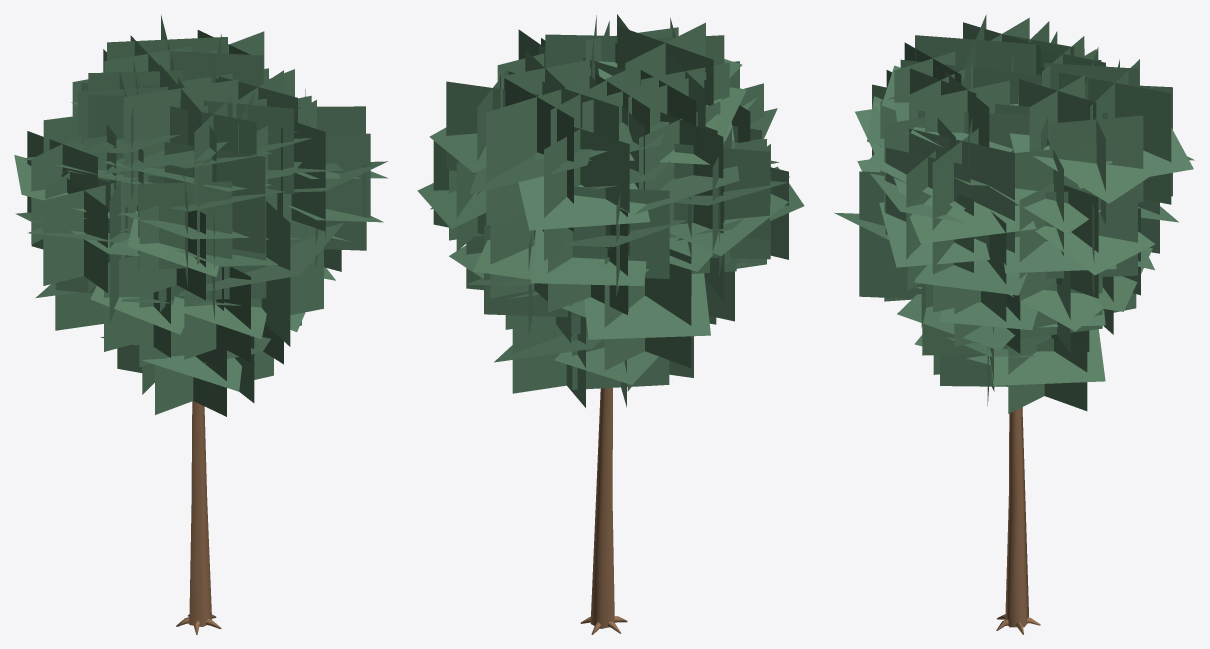
Rendered from pin_3_f3_loin.glb.
The picture shows the model from 3 angles, left to right: view 1: azimuth 30°, elevation 25°; view 2: azimuth 150°, elevation 25°; view 3: azimuth 270°, elevation 25°; orthographic projection. The views are drawn at different scales.
Visible parts, largest first — view 1: Pin_T3_f3_Leger_Loin; view 2: Pin_T3_f3_Leger_Loin; view 3: Pin_T3_f3_Leger_Loin.
Part boxes in pixels (x1=…): Pin_T3_f3_Leger_Loin: x1=14, y1=15, x2=388, y2=634; Pin_T3_f3_Leger_Loin: x1=417, y1=14, x2=804, y2=634; Pin_T3_f3_Leger_Loin: x1=834, y1=14, x2=1194, y2=634.
Size of the model in its own units: 10.4 by 17.1 by 9.9.
